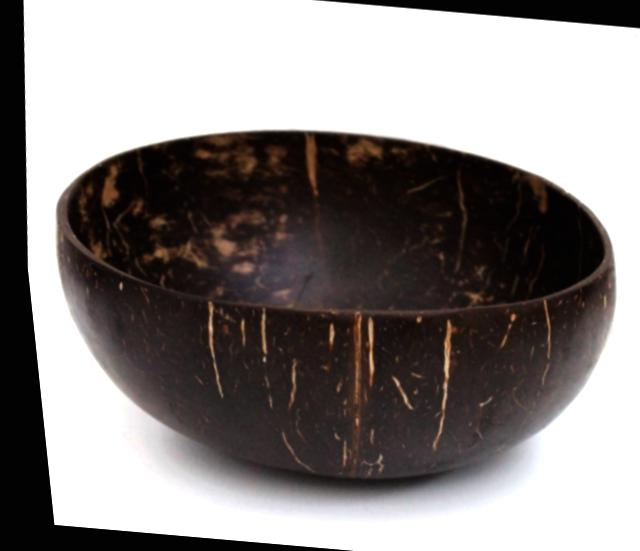Bowl: (56, 132, 614, 478)
